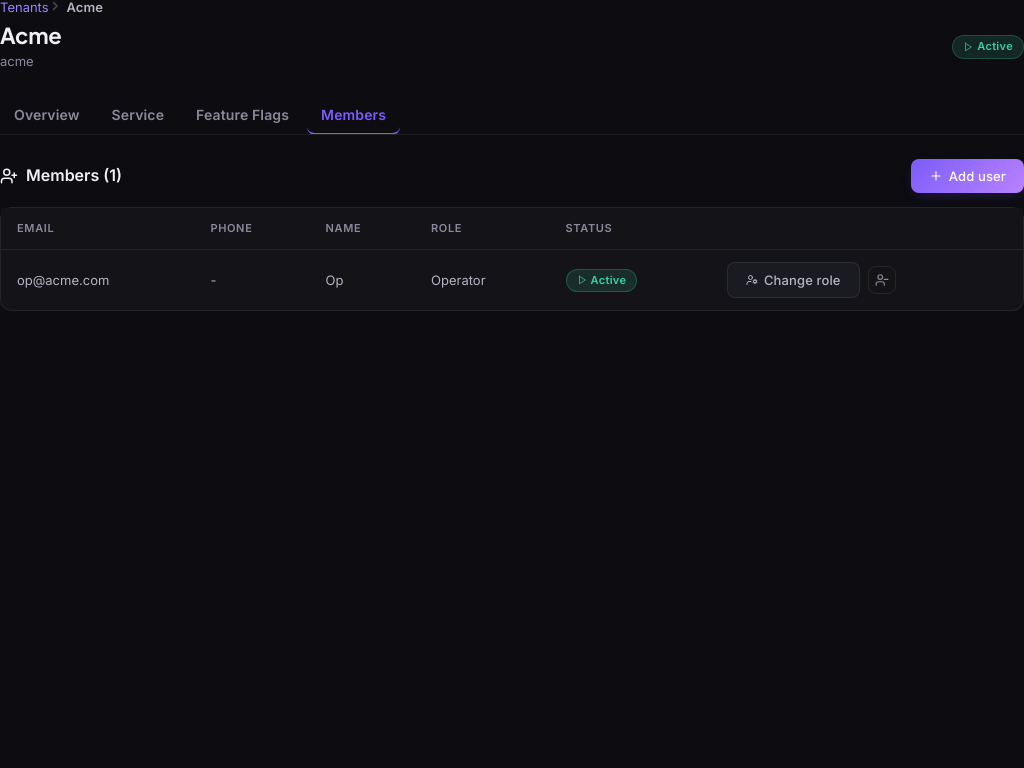
SATenantDetailPage — members › says "assignment" for exactly one
Click the button named "Revoke op@acme.com" at (882, 280), box 868,266 -> 896,294
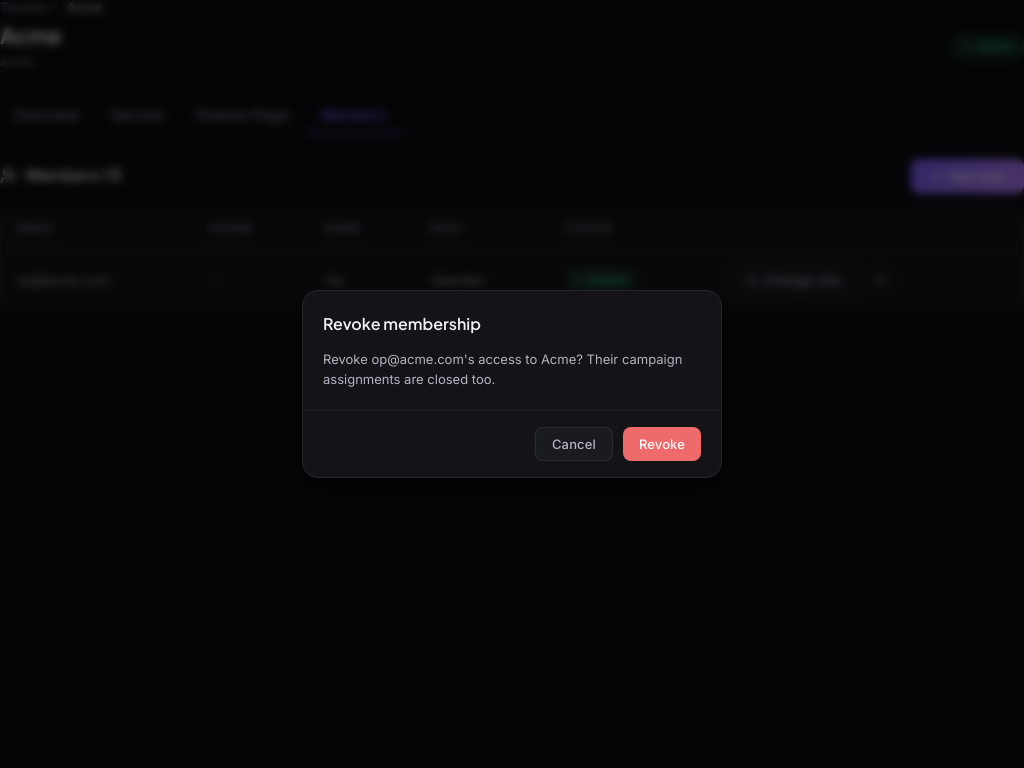
Click the button "Revoke" at (662, 444), box 623,427 -> 701,461
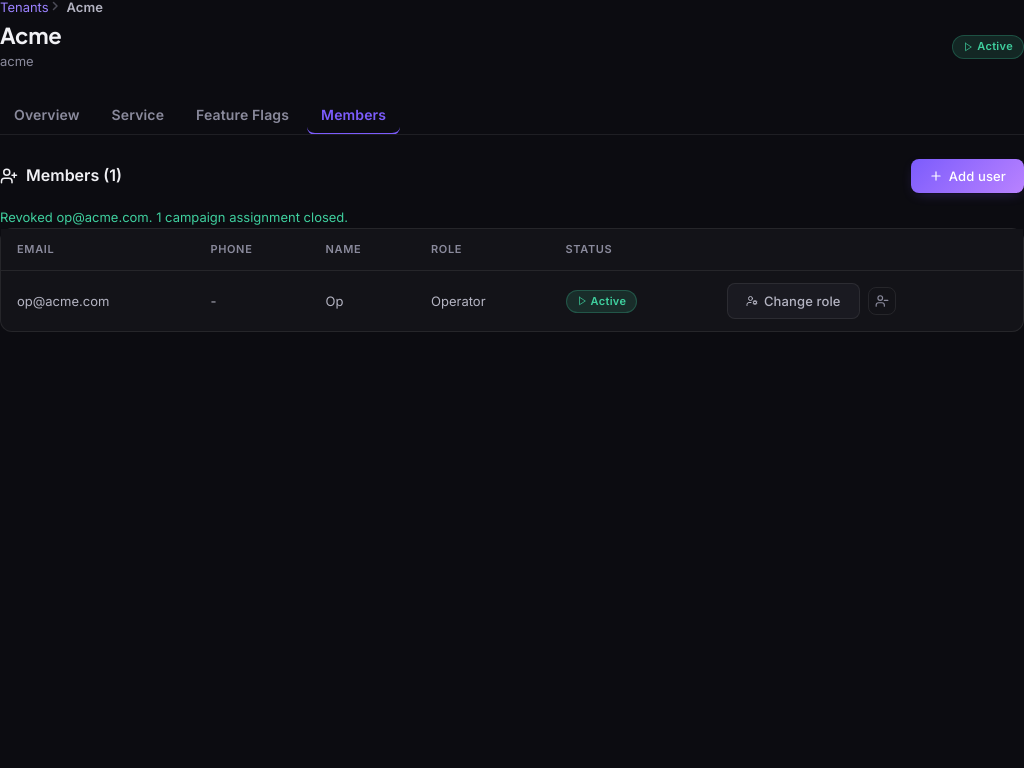
Check: the text "Revoked op@acme.com. 1 campaign assignment closed." is shown, box 0,209 -> 348,225
